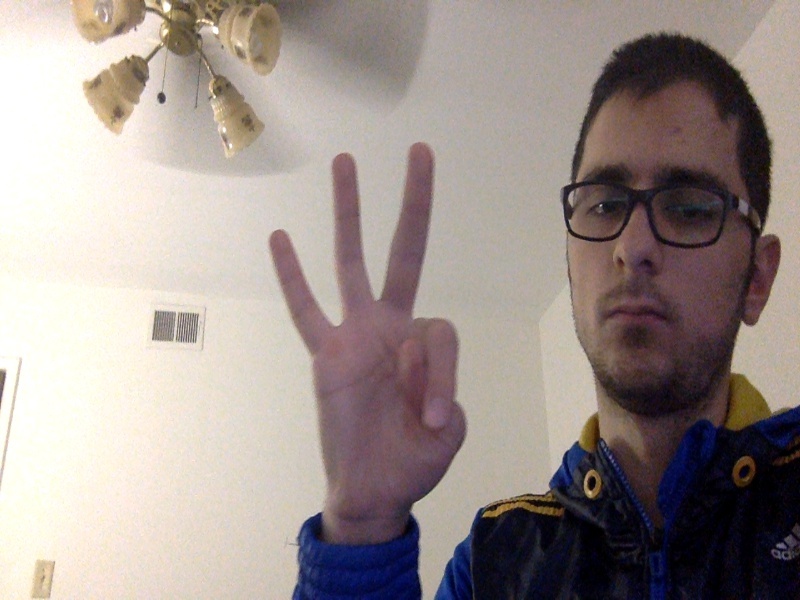3-hand: (269, 144, 467, 528)
